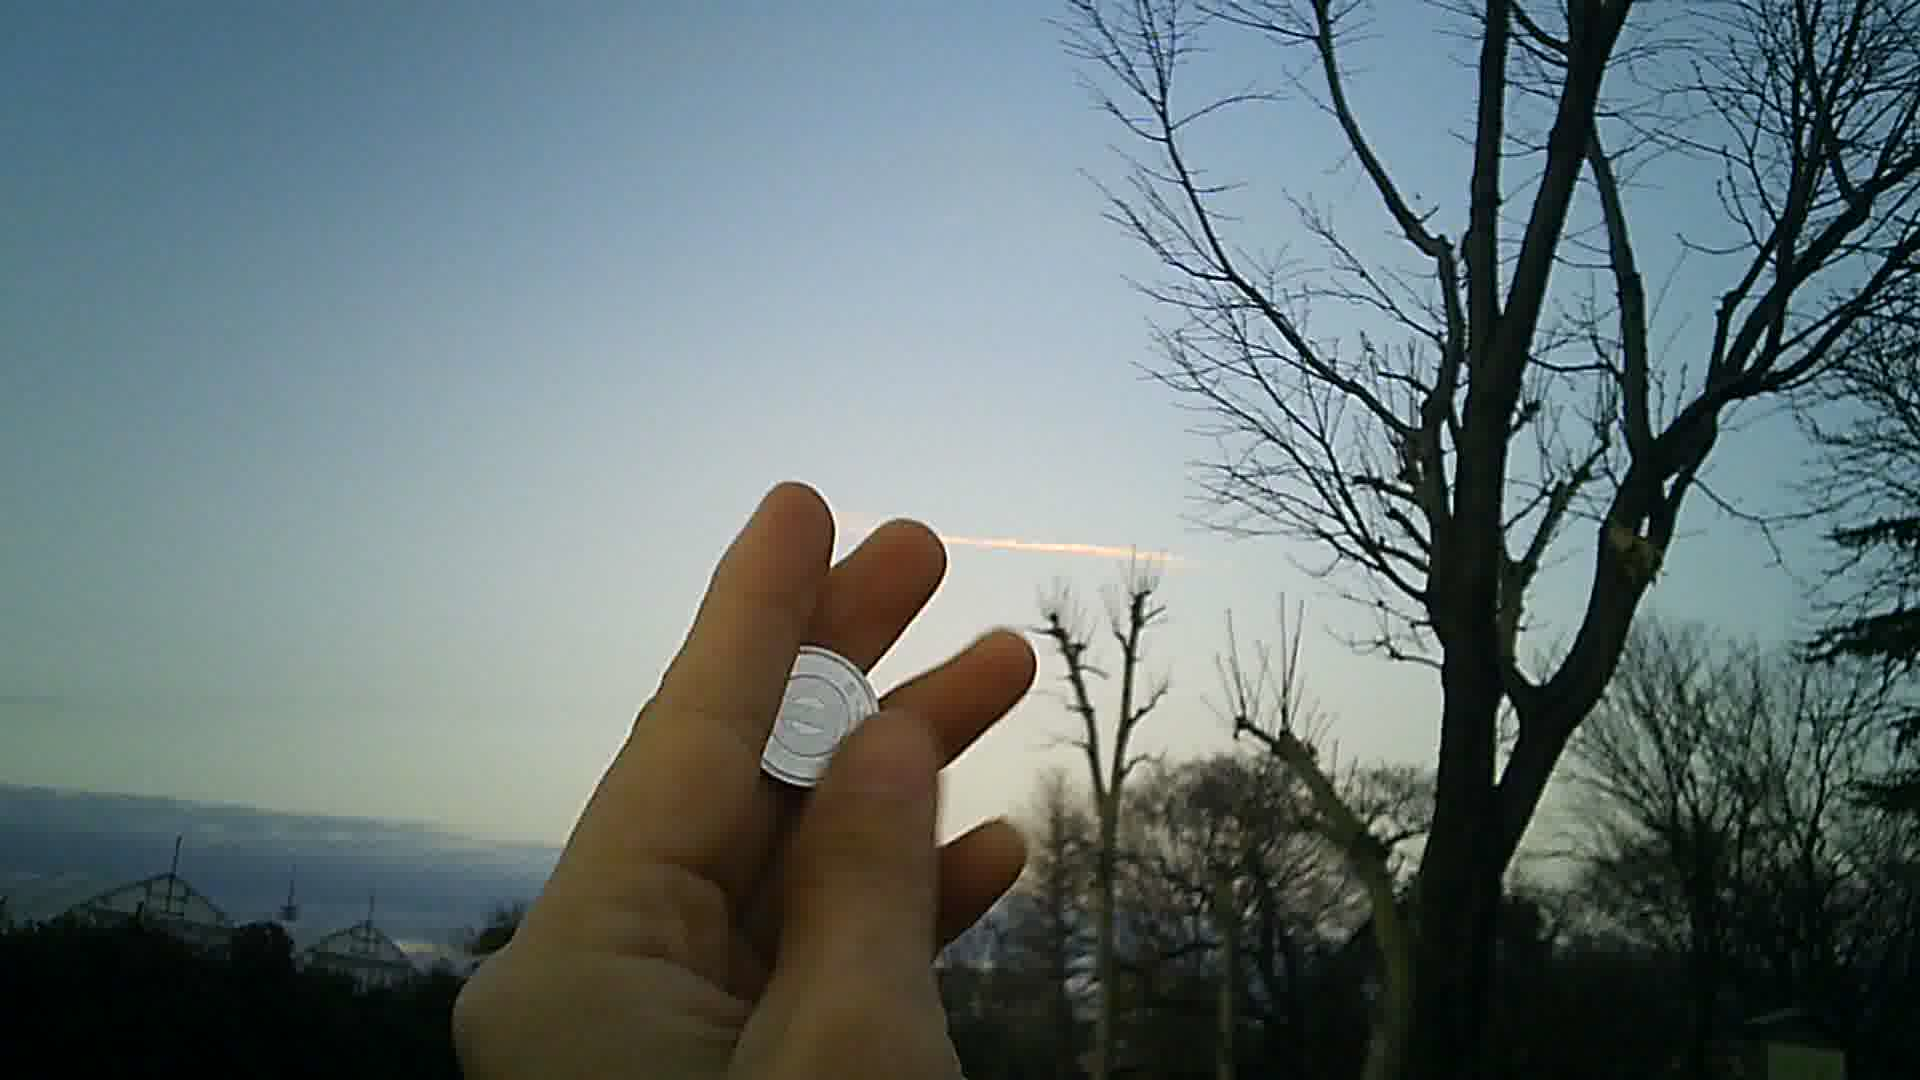1 Yen: (727, 642, 887, 786)
